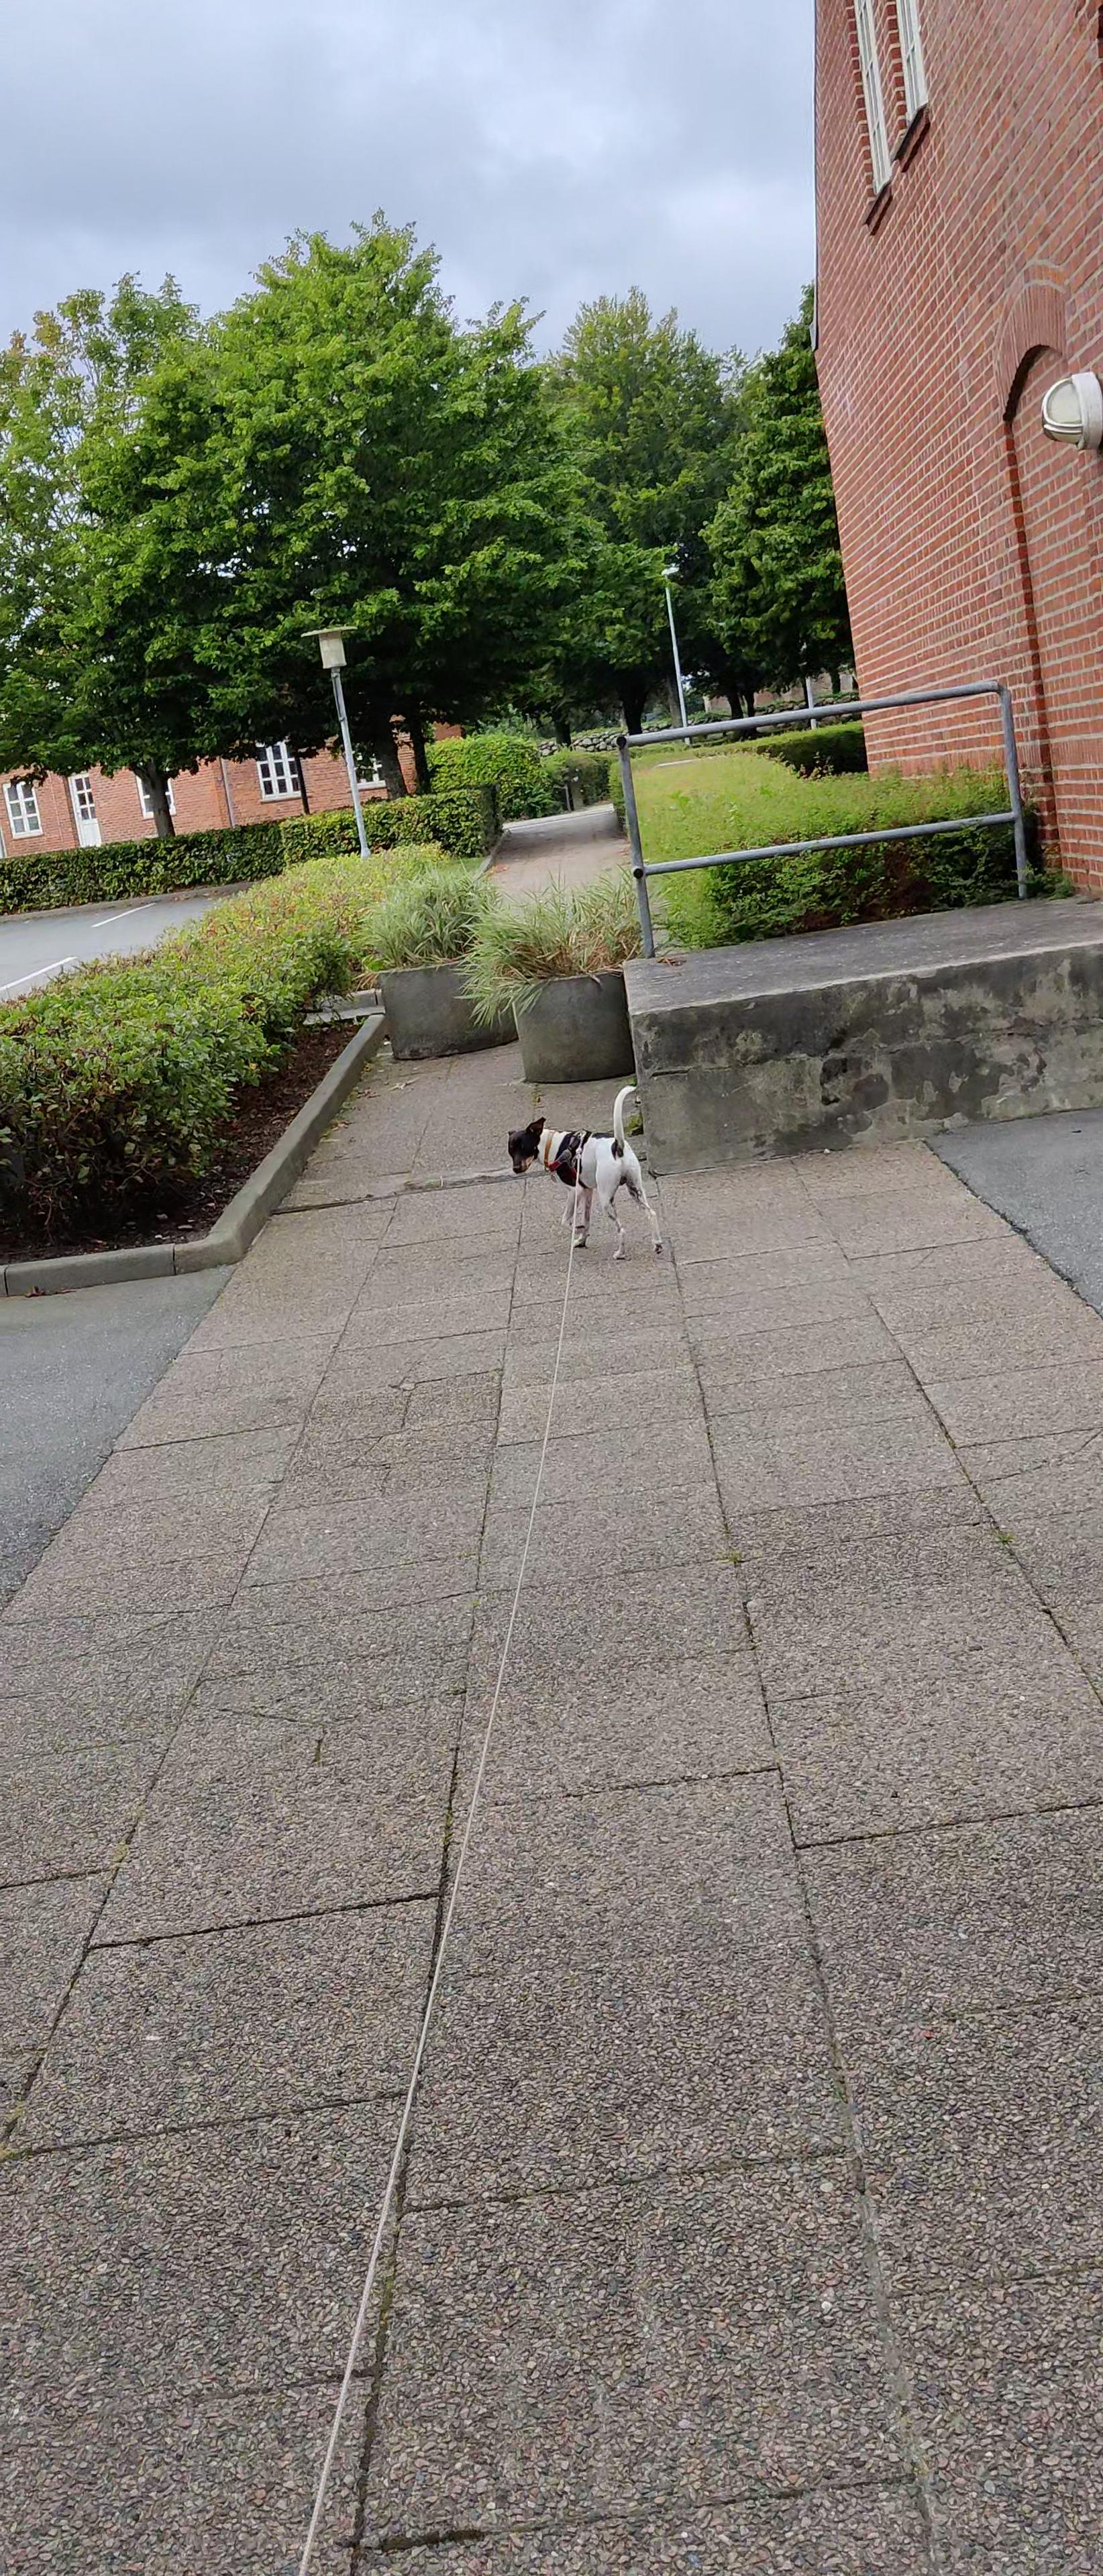Dog: (501, 1078, 672, 1270)
